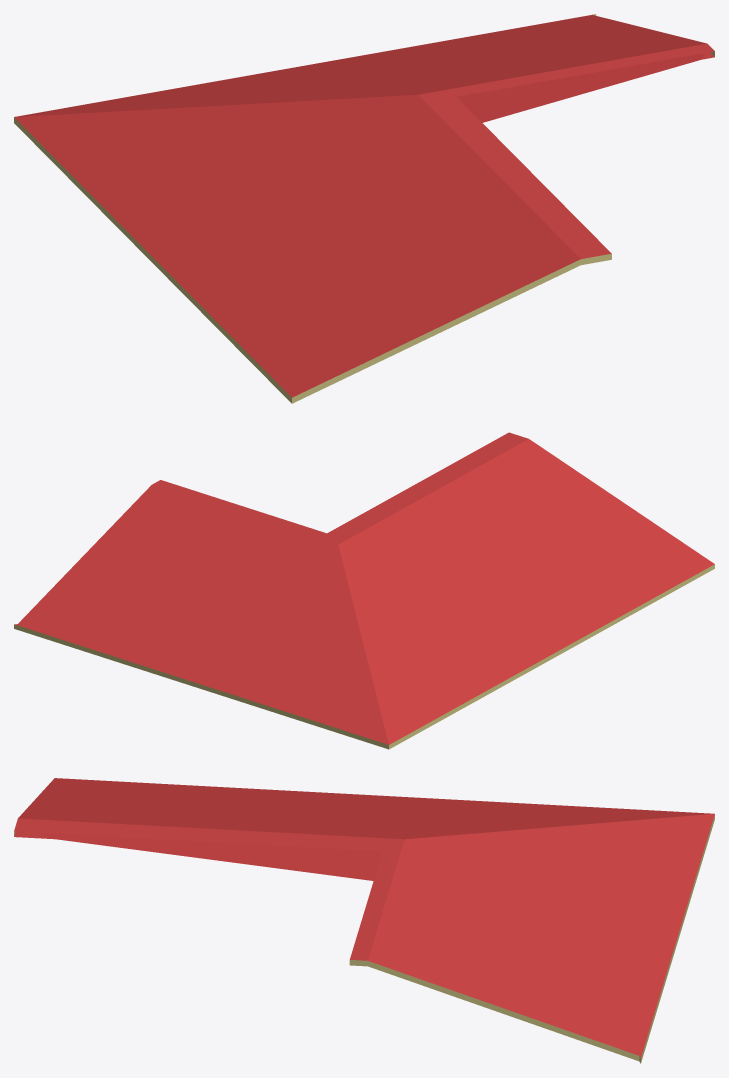
The picture shows the model from 3 angles, top to bottom: view 1: azimuth 30°, elevation 25°; view 2: azimuth 150°, elevation 25°; view 3: azimuth 270°, elevation 25°; orthographic projection. The views are drawn at different scales.
Bounding box in the file's own units: 10.67 × 11.28 × 1.54.
